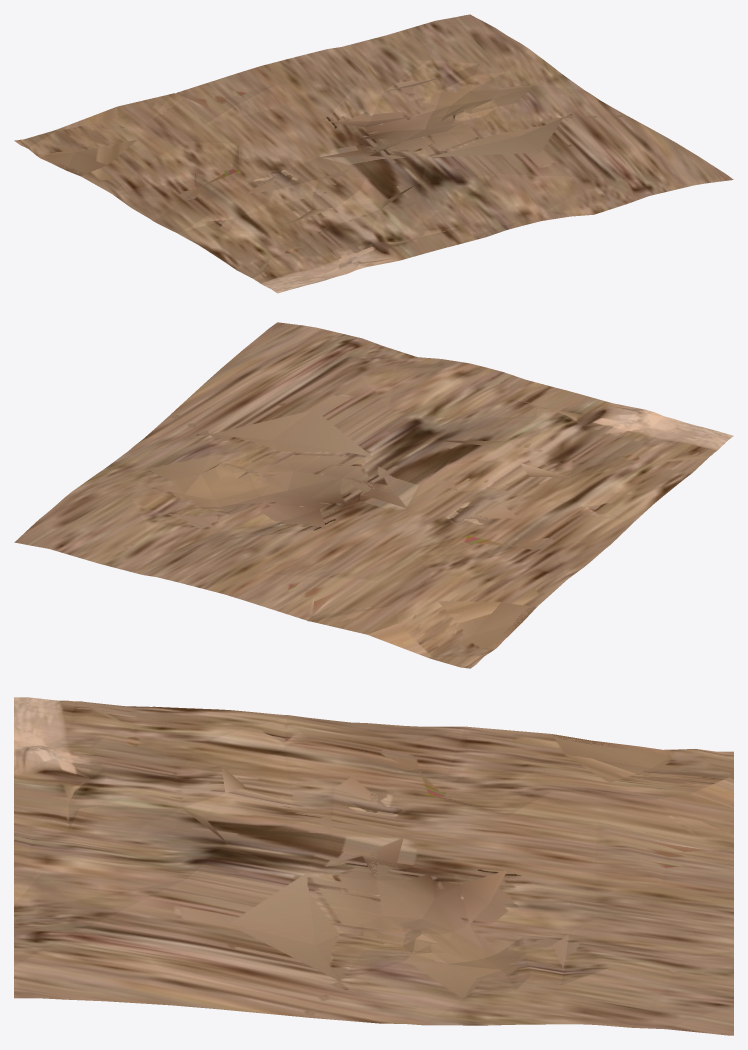
The picture shows the model from 3 angles, top to bottom: view 1: azimuth 30°, elevation 25°; view 2: azimuth 150°, elevation 25°; view 3: azimuth 270°, elevation 25°; orthographic projection. The views are drawn at different scales.
Size of the model in its own units: 2.09 by 0.2151 by 2.09.
2 materials, 2 textured.
